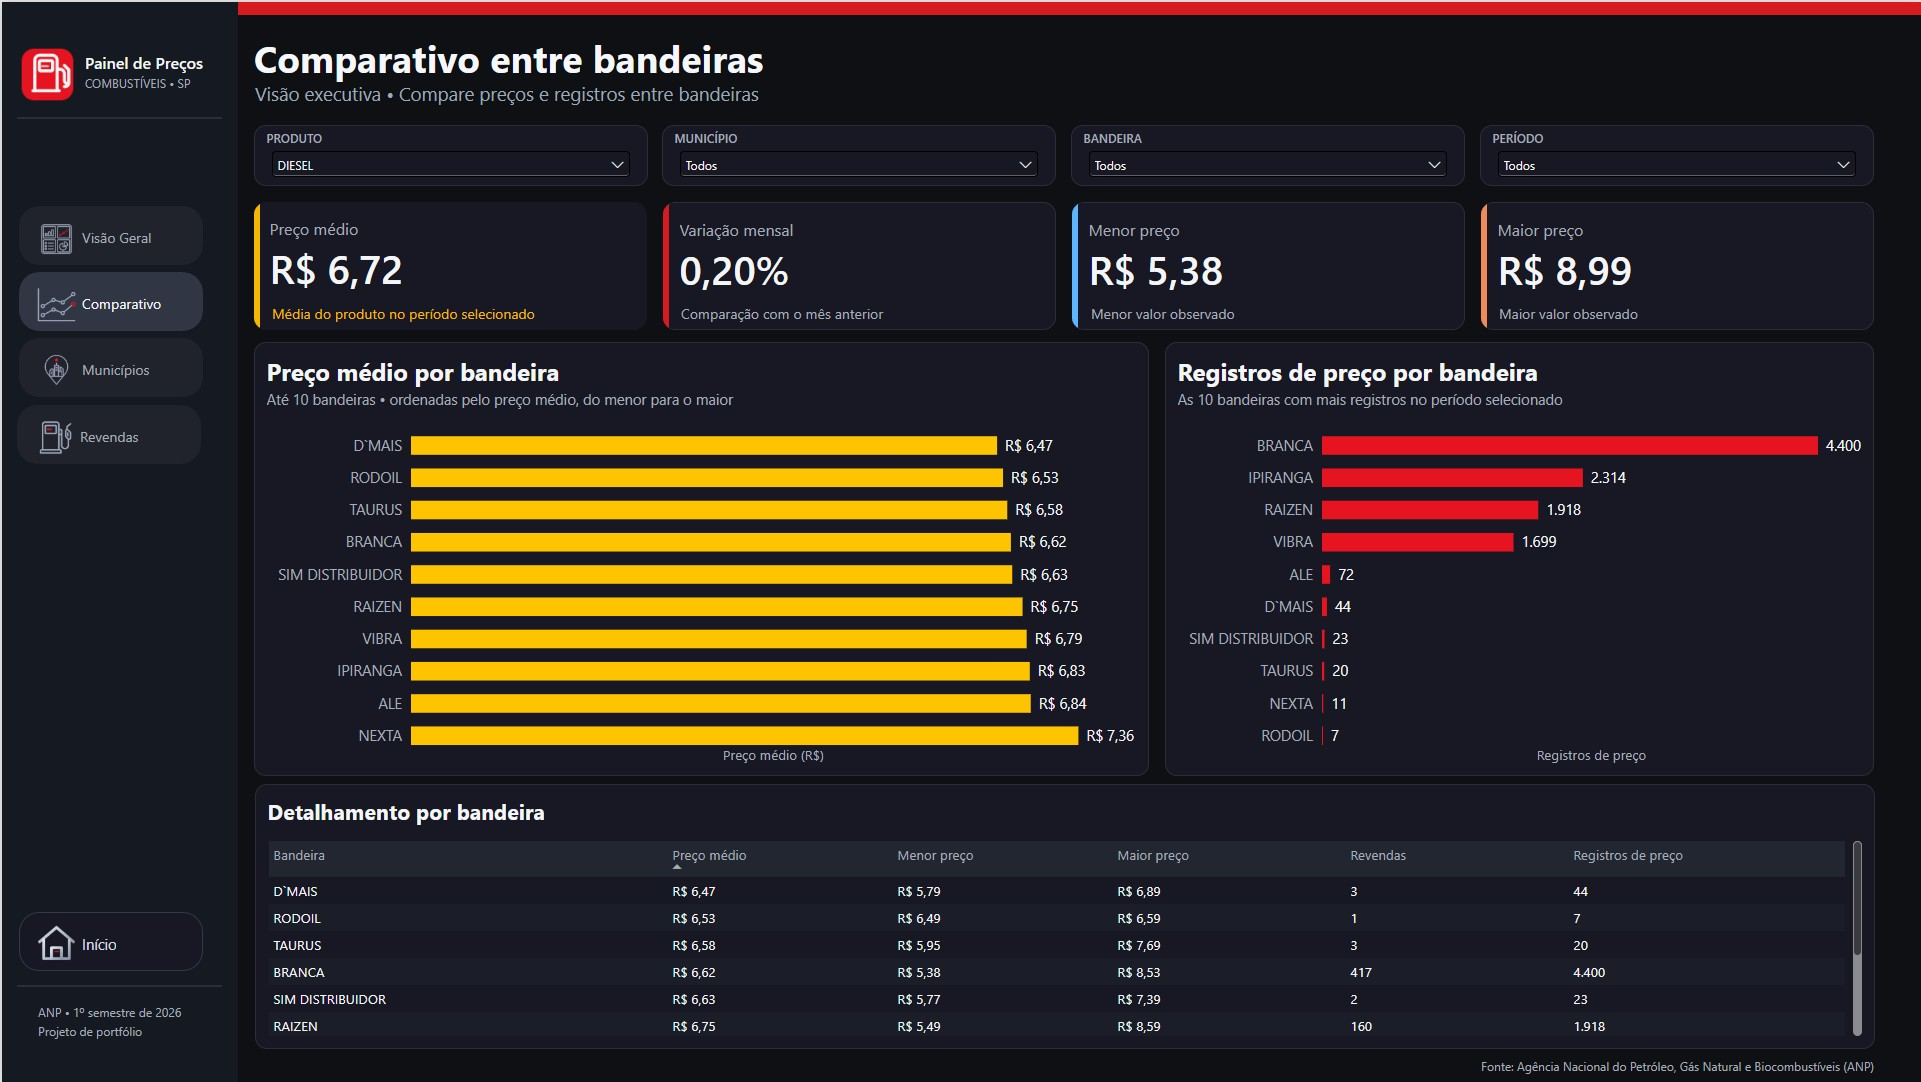

The dashboard page shown, as its layout file describes it:
{"tool":"powerbi","page":{"name":"02 - Comparativo","canvas":[1920,1080],"ordinal":2},"visuals":[{"type":"shape","title":"Fundo menu","box":[0,0,236,1080],"z":0,"group":"g5"},{"type":"textbox","title":"Subtítulo","box":[253,79.2,579,43.8],"z":0,"group":"g4"},{"type":"slicer","title":"PRODUTO","fields":{"Values":["dim_produto.produto"]},"box":[252,123,394,61],"z":0,"group":"g3"},{"type":"cardVisual","title":"Cartões","fields":{"Data":["Medidas.preco_medio","Medidas.variacao_mensal_percentual","Medidas.preco_minimo","Medidas.preco_maximo"]},"box":[252,200,1620,128],"z":0,"group":"g2"},{"type":"clusteredBarChart","title":"Preço médio por bandeira","fields":{"Category":["dim_bandeira.bandeira"],"Y":["Medidas.preco_medio"]},"box":[252,340,895,434],"z":0,"group":"g1"},{"type":"textbox","title":"Fonte","box":[1463,1054,409,24],"z":0},{"type":"shape","title":"Linha inferior","box":[15,969,205,30],"z":500,"group":"g5"},{"type":"actionButton","title":"Botão início","box":[17,910,184,59],"z":750,"group":"g5"},{"type":"shape","title":"Enfeite","box":[236,0,1683,13],"z":1000},{"type":"textbox","title":"Título","box":[252,31,614,59.5],"z":1000,"group":"g4"},{"type":"slicer","title":"MUNICÍPIO","fields":{"Values":["dim_revenda.municipio"]},"box":[660,123,394,61],"z":1000,"group":"g3"},{"type":"textbox","title":"Legenda maior preço","box":[1497,302,360,24],"z":1000,"group":"g2"},{"type":"clusteredBarChart","title":"Registros de preço por bandeira","fields":{"Category":["dim_bandeira.bandeira"],"Y":["Medidas.total_registros"]},"box":[1163,340,709,434],"z":1000,"group":"g1"},{"type":"slicer","title":"BANDEIRA","fields":{"Values":["dim_bandeira.bandeira"]},"box":[1069,123,394,61],"z":2000,"group":"g3"},{"type":"textbox","title":"Legenda menor preço","box":[1089,302,360,24],"z":2000,"group":"g2"},{"type":"tableEx","title":"Detalhamento por bandeira","fields":{"Values":["dim_bandeira.bandeira","Medidas.preco_medio","Medidas.preco_minimo","Medidas.preco_maximo","Medidas.total_revendas","Medidas.total_registros"]},"box":[253,782,1620,265],"z":2000},{"type":"slicer","title":"PERÍODO","fields":{"Values":["dim_data.mes","dim_data.data"]},"box":[1478,123,394,61],"z":3000,"group":"g3"},{"type":"textbox","title":"Legenda variação mensal","box":[679,302,360,24],"z":3000,"group":"g2"},{"type":"actionButton","title":"Botão revenda","box":[15,403,184,59],"z":3000,"group":"g5"},{"type":"actionButton","title":"Botão municípios","box":[17,336,184,59],"z":3500,"group":"g5"},{"type":"actionButton","title":"Botão comparativo","box":[17,270,184,59],"z":4000,"group":"g5"},{"type":"textbox","title":"Legenda preço médio","box":[270,302,360,24],"z":4000,"group":"g2"},{"type":"actionButton","title":"Botão visão geral","box":[17,204,184,59],"z":4500,"group":"g5"},{"type":"shape","title":"Linha superior","box":[15,101,205,30],"z":5500,"group":"g5"},{"type":"textbox","title":"Informação","box":[83,50,151,48],"z":5750,"group":"g5"},{"type":"image","title":"Logo","box":[17,43,57,58],"z":6000,"group":"g5"},{"type":"group","id":"g1","title":"Gráficos do meio","box":[252,340,1620,434],"z":6000},{"type":"group","id":"g2","title":"Cartões superiores","box":[252,200,1620,128],"z":6125},{"type":"group","id":"g3","title":"Filtros","box":[252,123,1620,61],"z":6250},{"type":"group","id":"g4","title":"Títuto da página","box":[252,31,614,92],"z":6500},{"type":"group","id":"g5","title":"Menu lateral","box":[0,0,236,1080],"z":7000},{"type":"textbox","box":[36,1000,184,40],"z":7000,"group":"g5"}]}

Visuals, with their boxes on the page's 1920x1080 design canvas (x1, y1, x2, y2). These are canvas units, not pixel positions in the 1921x1082 screenshot, which may show the page scaled, cropped or inside an application window:
"Fundo menu" shape: Rect(0, 0, 236, 1080)
"Subtítulo" textbox: Rect(253, 79, 832, 123)
"PRODUTO" slicer: Rect(252, 123, 646, 184)
"Cartões" cardVisual: Rect(252, 200, 1872, 328)
"Preço médio por bandeira" clusteredBarChart: Rect(252, 340, 1147, 774)
"Fonte" textbox: Rect(1463, 1054, 1872, 1078)
"Linha inferior" shape: Rect(15, 969, 220, 999)
"Botão início" actionButton: Rect(17, 910, 201, 969)
"Enfeite" shape: Rect(236, 0, 1919, 13)
"Título" textbox: Rect(252, 31, 866, 90)
"MUNICÍPIO" slicer: Rect(660, 123, 1054, 184)
"Legenda maior preço" textbox: Rect(1497, 302, 1857, 326)
"Registros de preço por bandeira" clusteredBarChart: Rect(1163, 340, 1872, 774)
"BANDEIRA" slicer: Rect(1069, 123, 1463, 184)
"Legenda menor preço" textbox: Rect(1089, 302, 1449, 326)
"Detalhamento por bandeira" tableEx: Rect(253, 782, 1873, 1047)
"PERÍODO" slicer: Rect(1478, 123, 1872, 184)
"Legenda variação mensal" textbox: Rect(679, 302, 1039, 326)
"Botão revenda" actionButton: Rect(15, 403, 199, 462)
"Botão municípios" actionButton: Rect(17, 336, 201, 395)
"Botão comparativo" actionButton: Rect(17, 270, 201, 329)
"Legenda preço médio" textbox: Rect(270, 302, 630, 326)
"Botão visão geral" actionButton: Rect(17, 204, 201, 263)
"Linha superior" shape: Rect(15, 101, 220, 131)
"Informação" textbox: Rect(83, 50, 234, 98)
"Logo" image: Rect(17, 43, 74, 101)
"Gráficos do meio" group: Rect(252, 340, 1872, 774)
"Cartões superiores" group: Rect(252, 200, 1872, 328)
"Filtros" group: Rect(252, 123, 1872, 184)
"Títuto da página" group: Rect(252, 31, 866, 123)
"Menu lateral" group: Rect(0, 0, 236, 1080)
textbox: Rect(36, 1000, 220, 1040)
